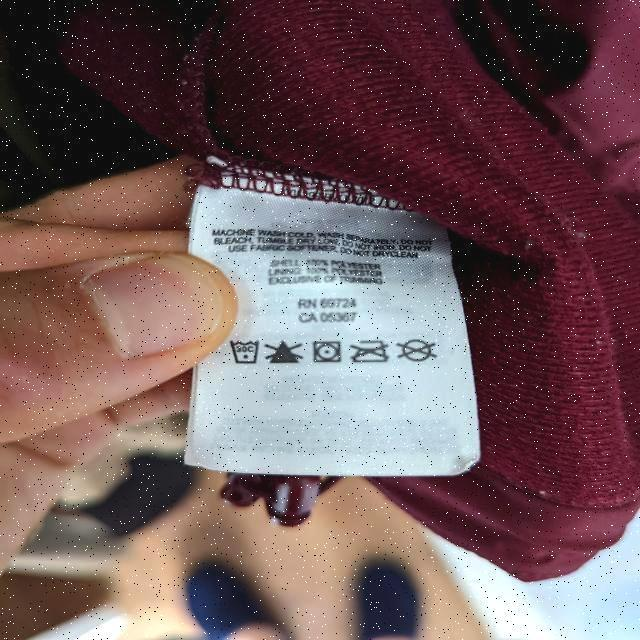30C: (229, 332, 263, 367)
DN_bleach: (264, 338, 305, 367)
DN_dry_clean: (395, 339, 437, 365)
DN_iron: (350, 339, 390, 366)
tumble_dry_low: (310, 339, 342, 365)
